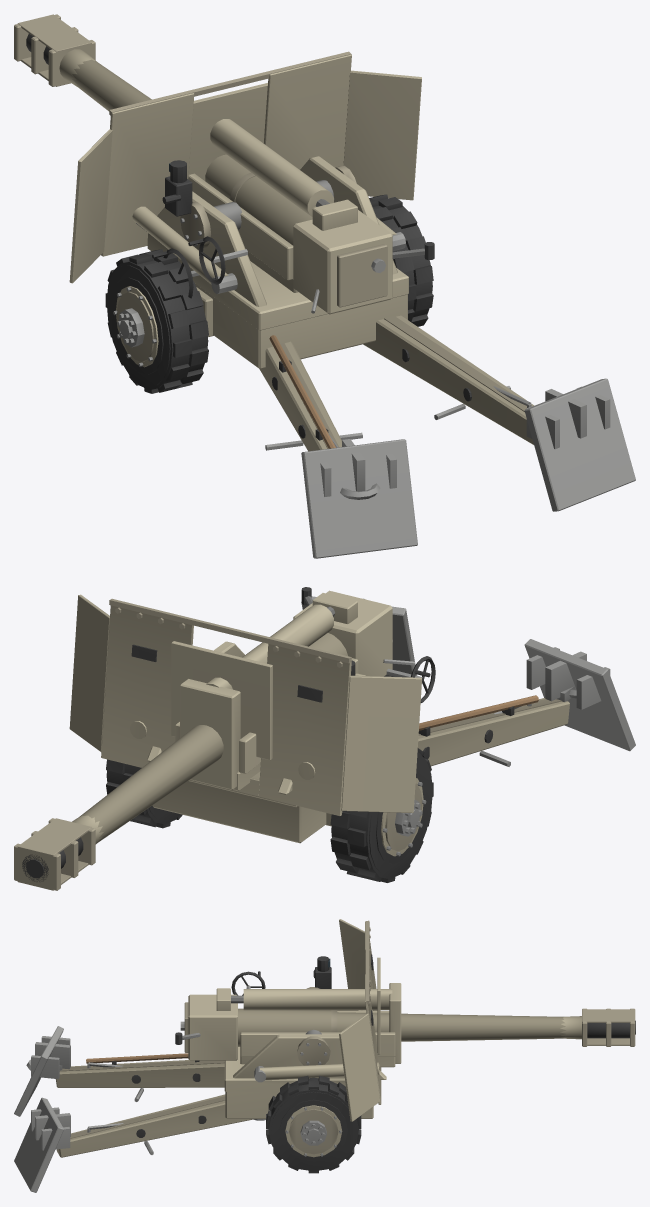
File: rus_tow_nonak.glb
3 views of the same model, one above another, from view 1: azimuth 30°, elevation 25°; view 2: azimuth 150°, elevation 25°; view 3: azimuth 270°, elevation 25° (orthographic). The views are drawn at different scales.
Visible parts, largest first — view 1: turret, body, barrel, wheel_0, wheel_1; view 2: turret, barrel, body, wheel_0, wheel_1; view 3: barrel, body, turret, wheel_1.
Part boxes in pixels (<box>): turret: <box>69,51,421,330</box>; body: <box>195,283,635,558</box>; barrel: <box>14,14,434,314</box>; wheel_0: <box>105,249,208,393</box>; wheel_1: <box>369,194,433,326</box>; turret: <box>69,594,435,815</box>; barrel: <box>14,587,415,890</box>; body: <box>152,596,635,843</box>; wheel_0: <box>330,748,433,882</box>; wheel_1: <box>106,759,182,828</box>; barrel: <box>175,957,635,1067</box>; body: <box>14,1026,373,1192</box>; turret: <box>224,919,386,1121</box>; wheel_1: <box>266,1075,361,1173</box>.
Size of the model in its own units: 2.3 by 1.67 by 5.24.
